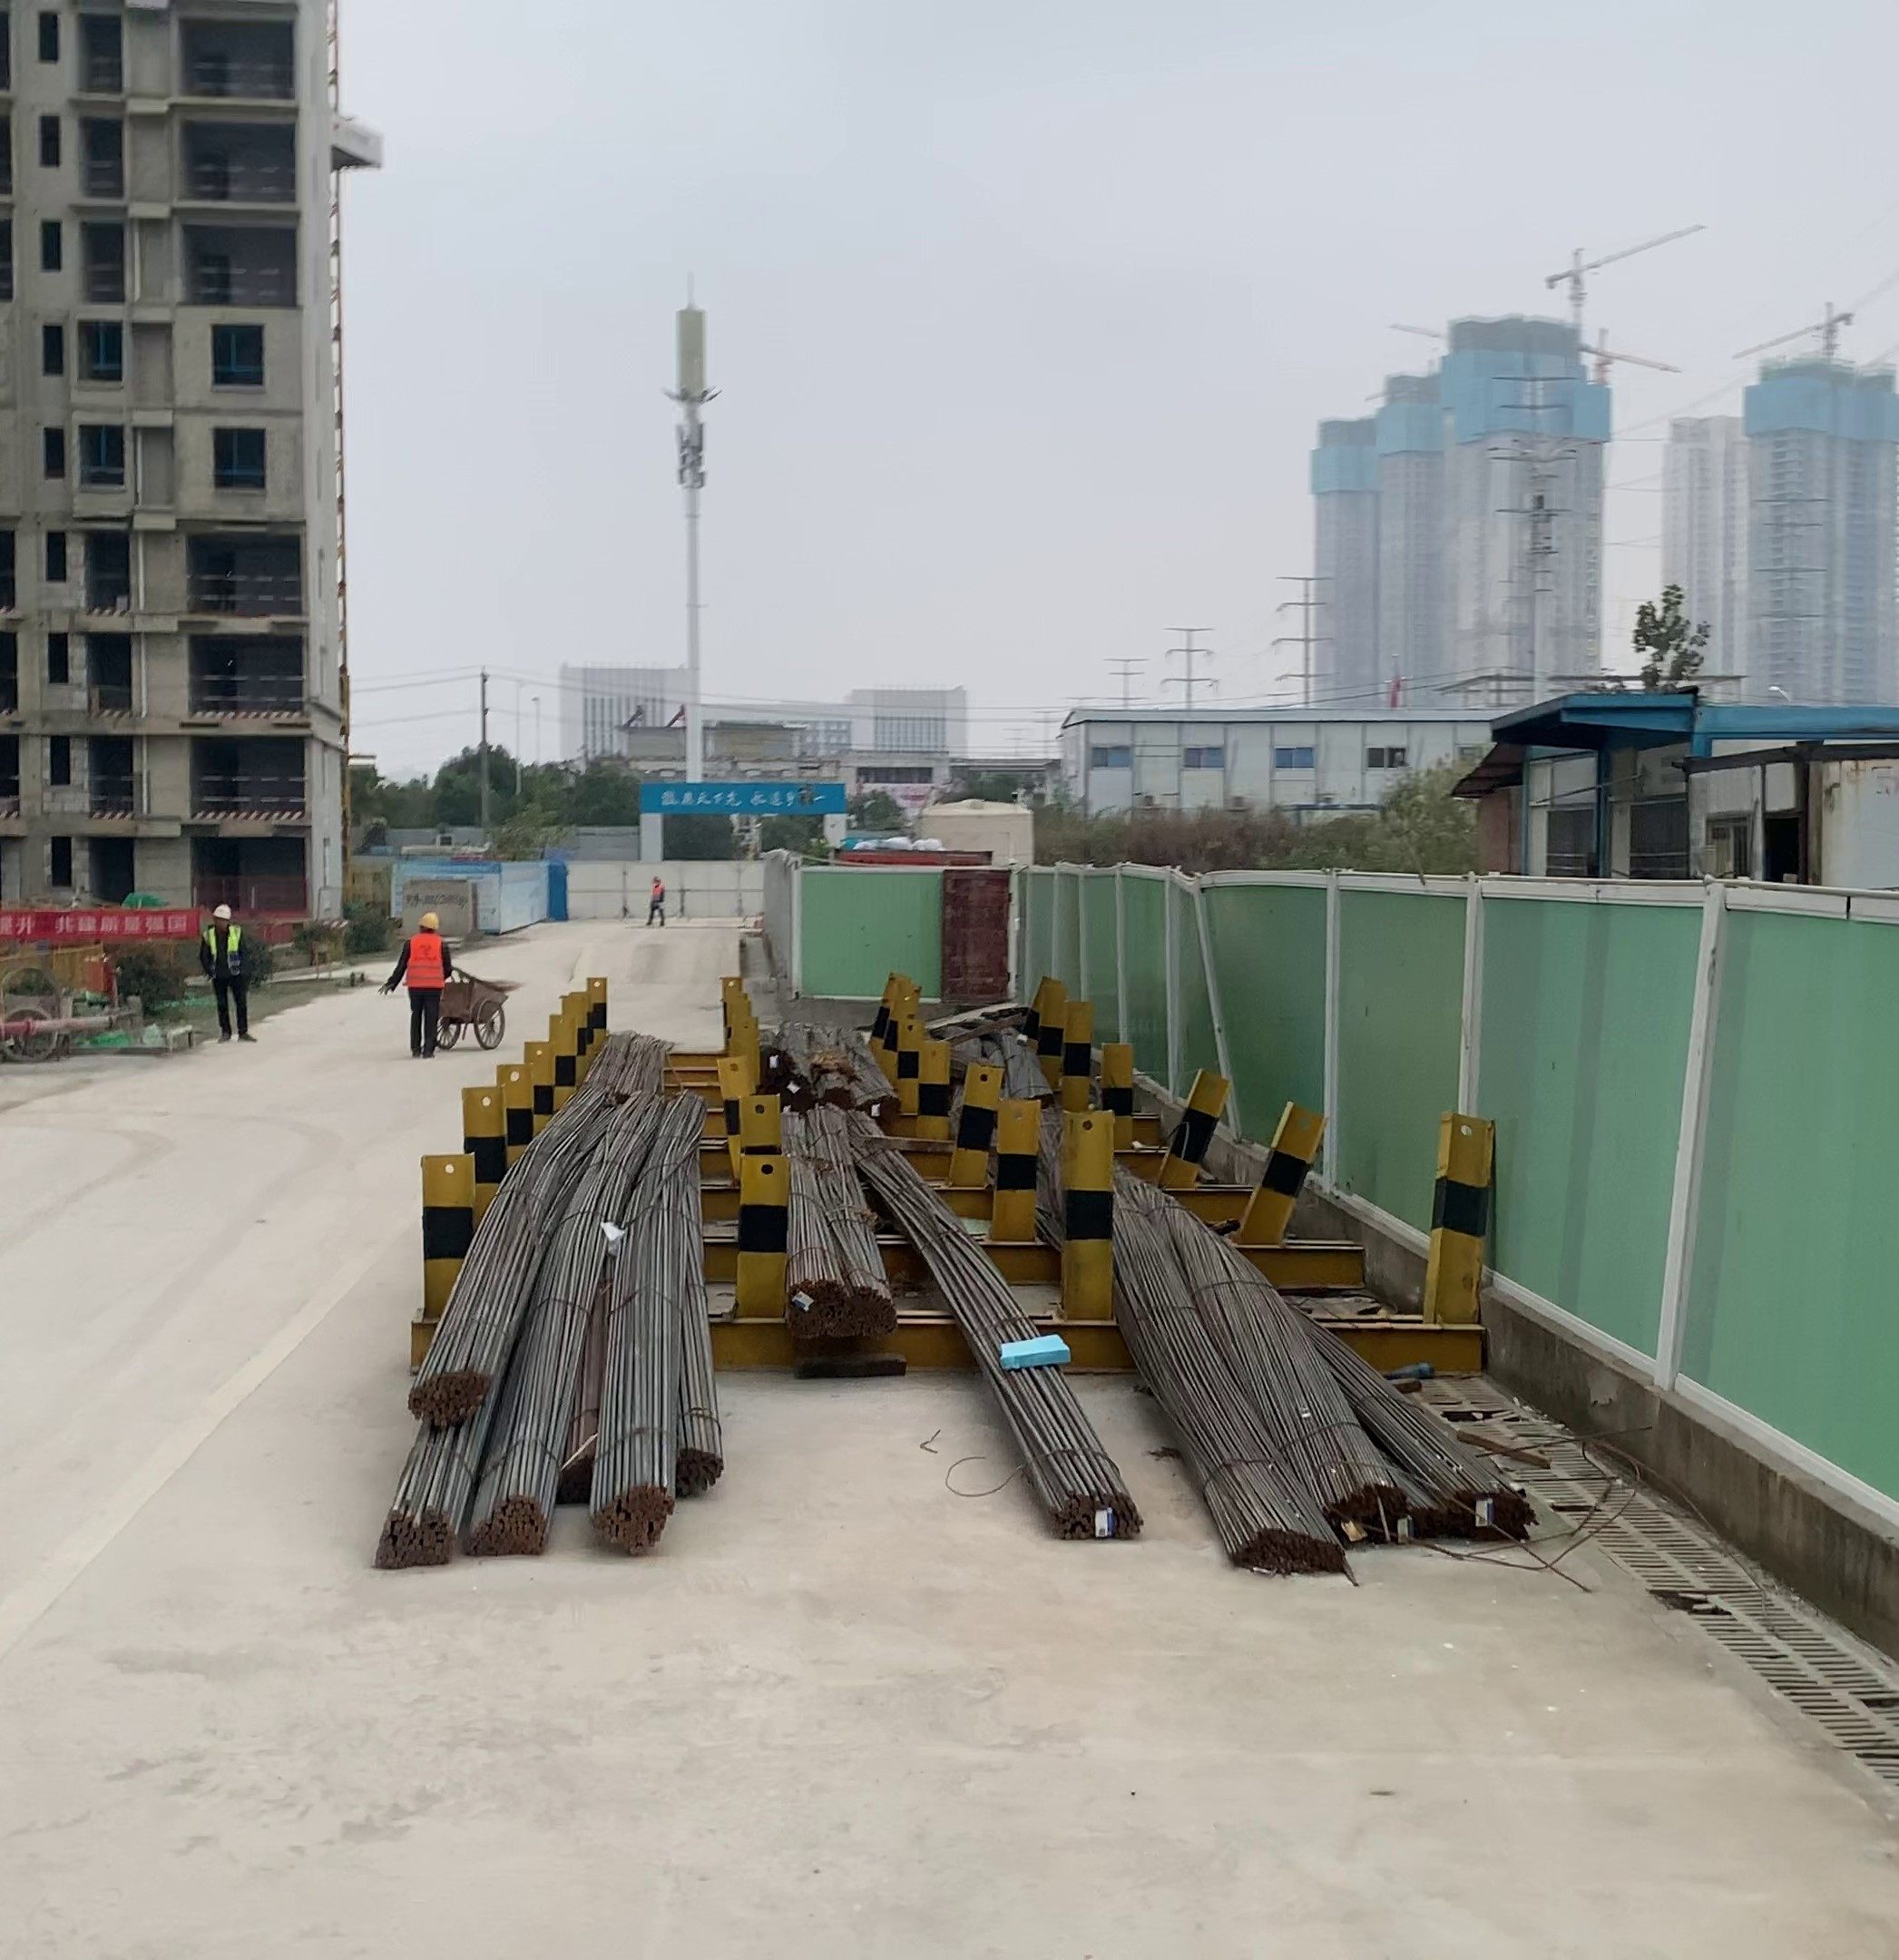rebar: (1423, 1481, 1537, 1542), (1230, 1526, 1348, 1580), (1050, 1479, 1150, 1542), (369, 1503, 455, 1573), (410, 1356, 495, 1421), (593, 1482, 670, 1554), (473, 1498, 553, 1559), (1328, 1482, 1409, 1536), (788, 1277, 844, 1334), (851, 1290, 901, 1344), (674, 1445, 726, 1493), (562, 1447, 590, 1493)
